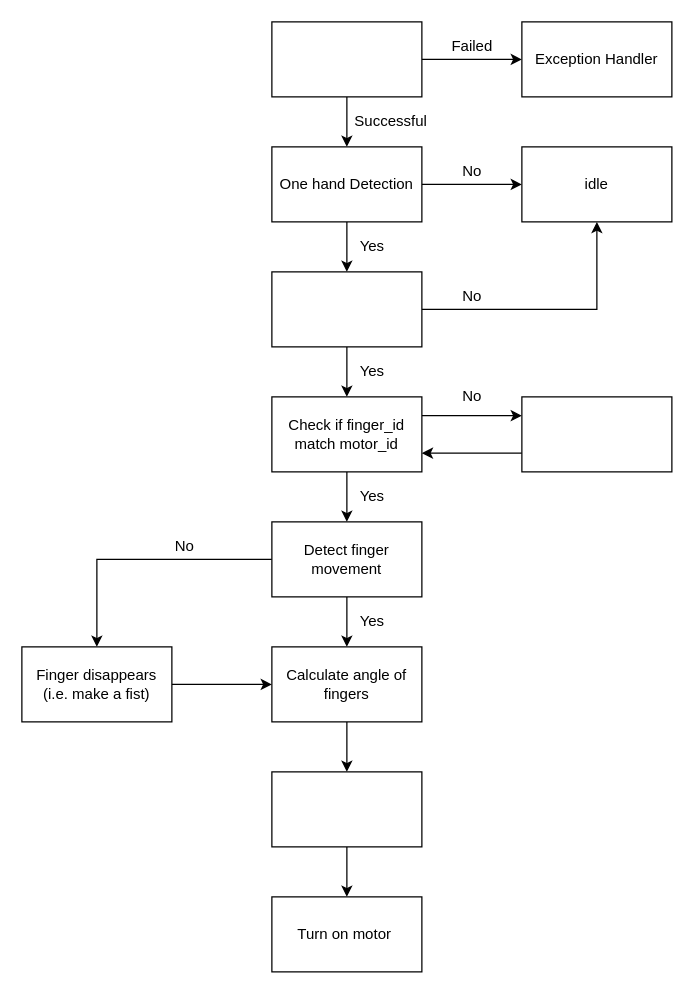
The diagram is 694 pixels wide and 994 high, and some of its shapes have lost their labels. Each missing label, with the box of its shape:
Check angle threshold: (271, 771, 422, 847)
Hand Open: (271, 271, 422, 347)
Leap Motion Connection: (271, 21, 422, 97)
Update motor_id: (521, 396, 672, 472)
